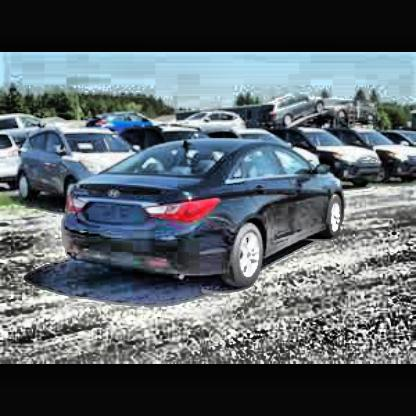Hyundai Sonata Sedan 2012: (64, 137, 349, 290)
